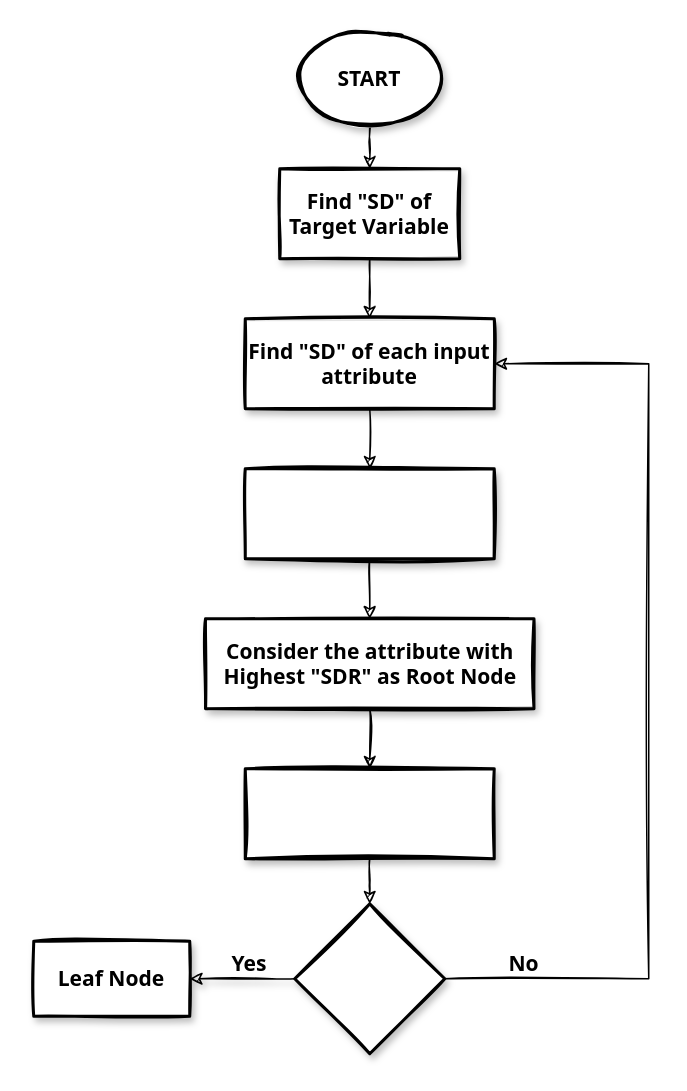
Image size: 687x1091. Some labels were removed from this diagram. Each missing label, with the centre of its shape:
Divide the data-set into sub-branches (sub-partitions): (370,815)
Find "SDR" for each input attribute: (370,515)
If Threshold < 10%: (370,980)
